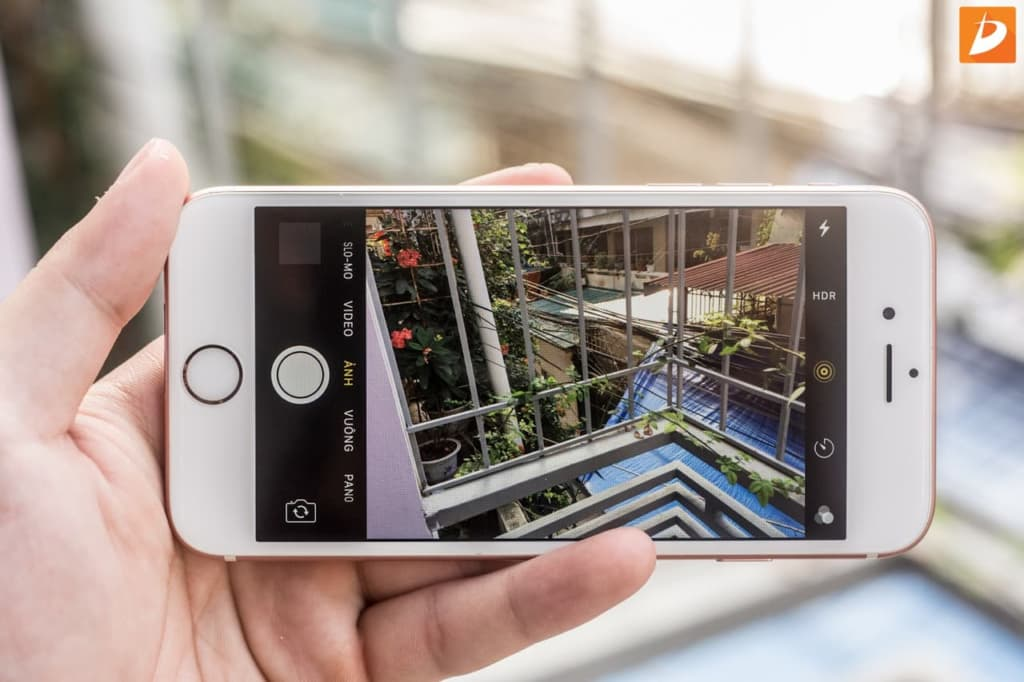iphone: (153, 164, 948, 574)
iphone7: (151, 162, 946, 572)
